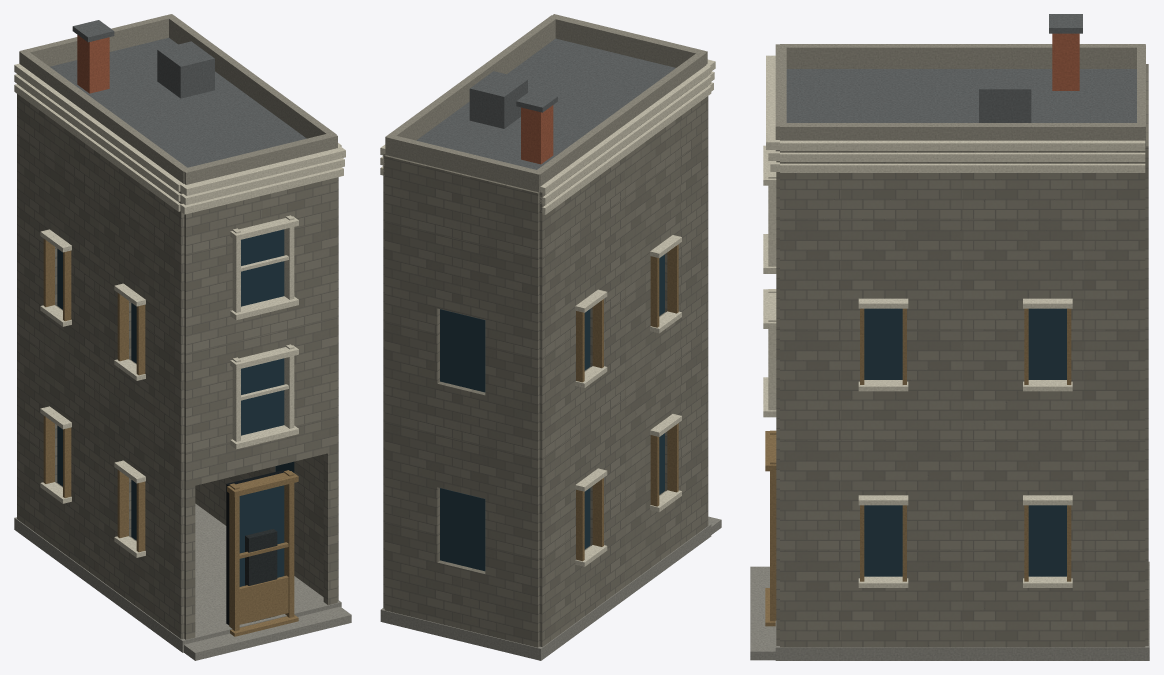
The model's file is WHSE22_lod2.glb.
3 views of the same model, side by side, from view 1: azimuth 30°, elevation 25°; view 2: azimuth 150°, elevation 25°; view 3: azimuth 270°, elevation 25° (orthographic). The views are drawn at different scales.
Parts seen in each view (by area): view 1: WHSE22_LOD2; view 2: WHSE22_LOD2; view 3: WHSE22_LOD2.
Part boxes in pixels (x1,y1,x2,y2): WHSE22_LOD2: [14, 14, 351, 660]; WHSE22_LOD2: [380, 14, 721, 660]; WHSE22_LOD2: [750, 14, 1149, 660].
Size of the model in its own units: 3.71 by 10.45 by 6.57.
Materials: 10 (8 with a texture image).
